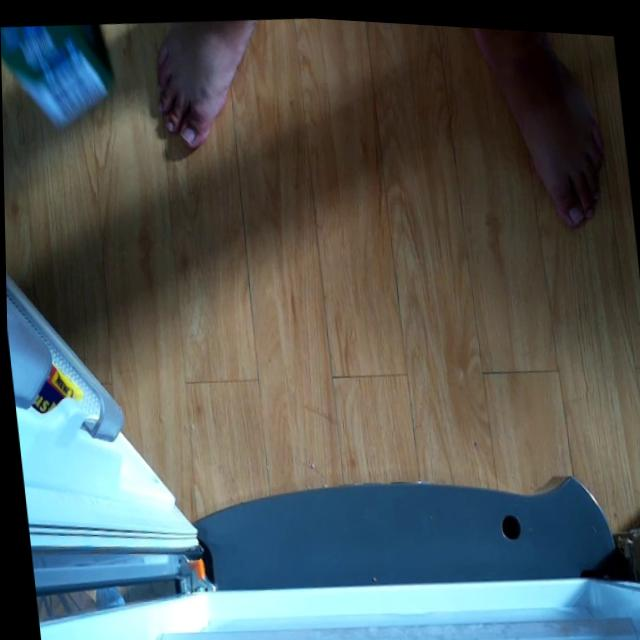milk: (0, 17, 117, 132)
